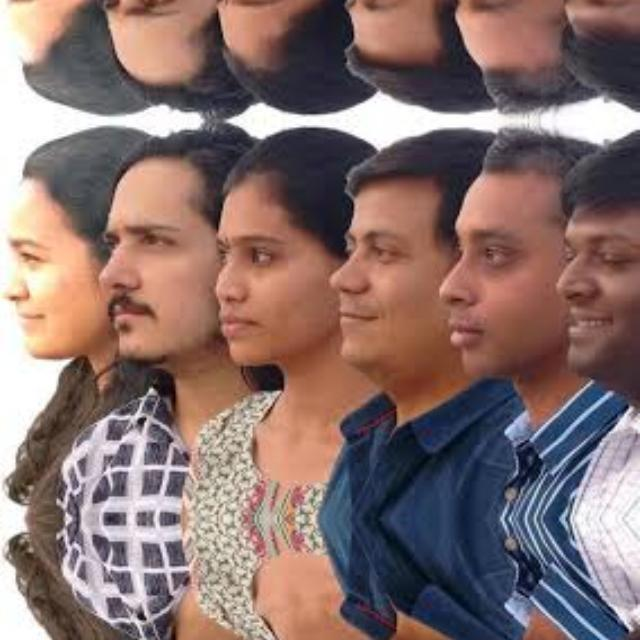person: (211, 127, 367, 518), (3, 120, 137, 506), (437, 120, 565, 518), (336, 120, 460, 520), (116, 120, 227, 518), (211, 518, 367, 640), (211, 0, 367, 112), (3, 0, 137, 119), (437, 518, 565, 640), (437, 0, 565, 120), (336, 518, 460, 640), (336, 0, 460, 119), (3, 532, 137, 640), (115, 518, 226, 640), (115, 0, 226, 120)
